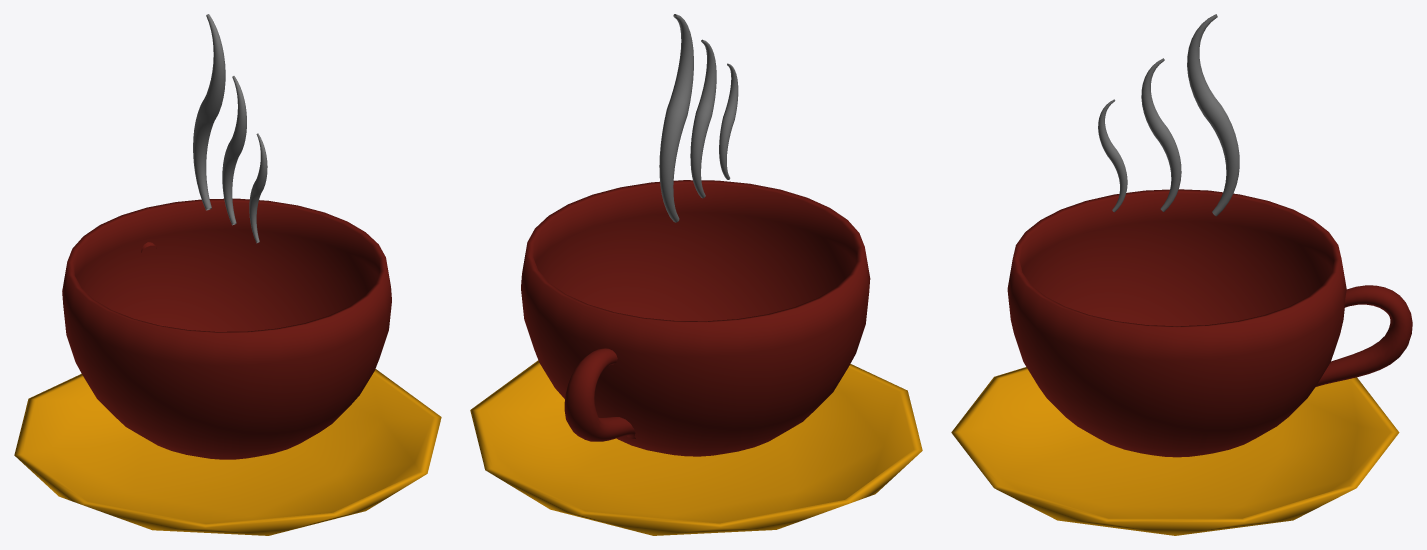
Rendered from cafe.glb.
The picture shows the model from 3 angles, left to right: view 1: azimuth 30°, elevation 25°; view 2: azimuth 150°, elevation 25°; view 3: azimuth 270°, elevation 25°; orthographic projection. The views are drawn at different scales.
Parts seen in each view (by area): view 1: BezierCurve; view 2: BezierCurve; view 3: BezierCurve.
Part boxes in pixels (x1,y1,x2,y2): BezierCurve: [14, 14, 441, 535]; BezierCurve: [470, 14, 922, 535]; BezierCurve: [951, 14, 1412, 535].
Bounding box in the file's own units: 2.16 × 2.59 × 2.34.
